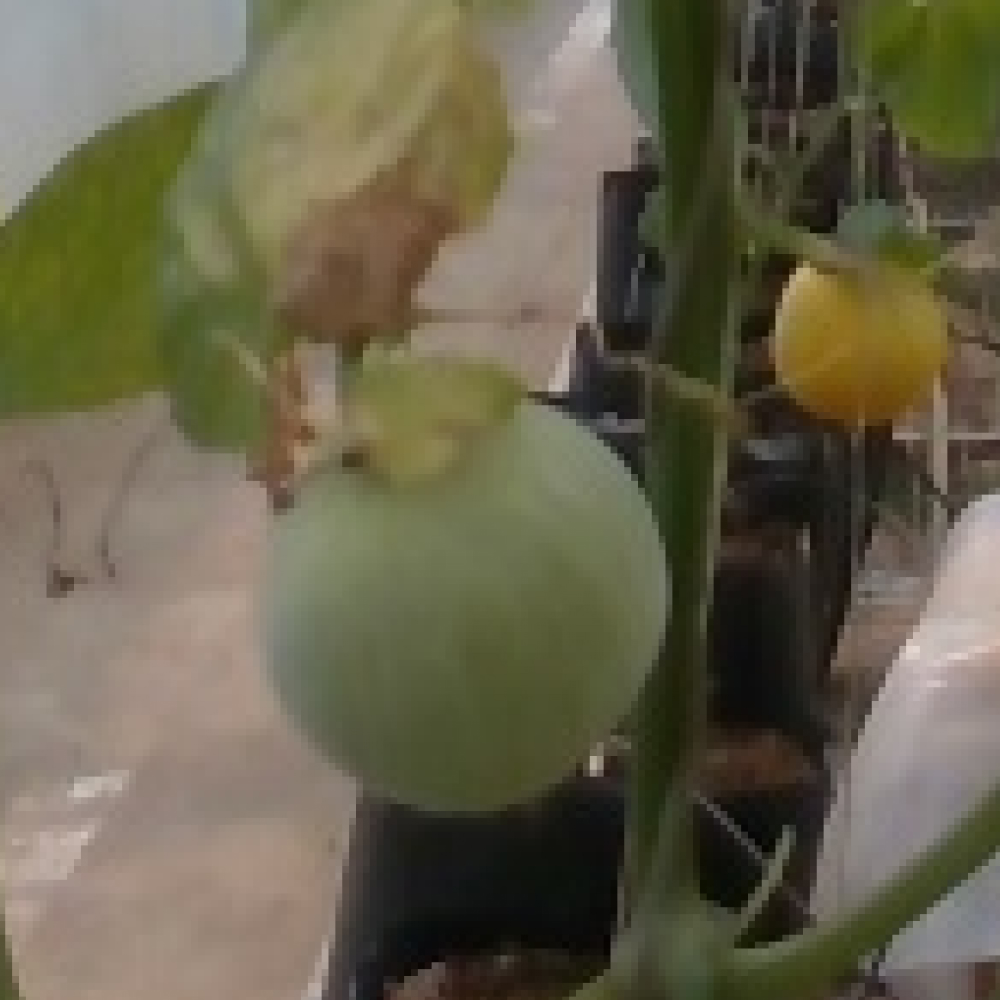melon: (251, 392, 677, 817)
